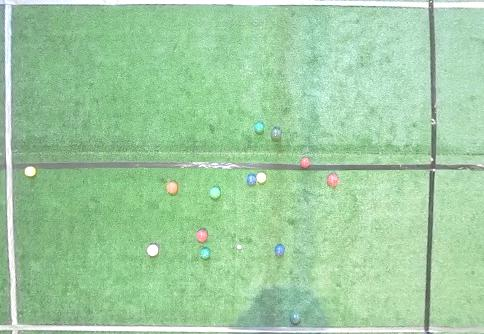blue: (246, 174, 257, 185), (275, 244, 285, 255)
green: (209, 186, 221, 199), (254, 122, 264, 134), (290, 313, 300, 324), (200, 248, 210, 259), (271, 128, 281, 139)
red: (196, 229, 208, 243), (147, 244, 159, 257), (327, 174, 339, 186), (166, 181, 177, 193), (300, 157, 310, 168)
vline: (423, 1, 484, 333), (0, 1, 22, 333)
white: (237, 245, 241, 249)
yellow: (24, 166, 36, 177), (256, 172, 267, 183)
